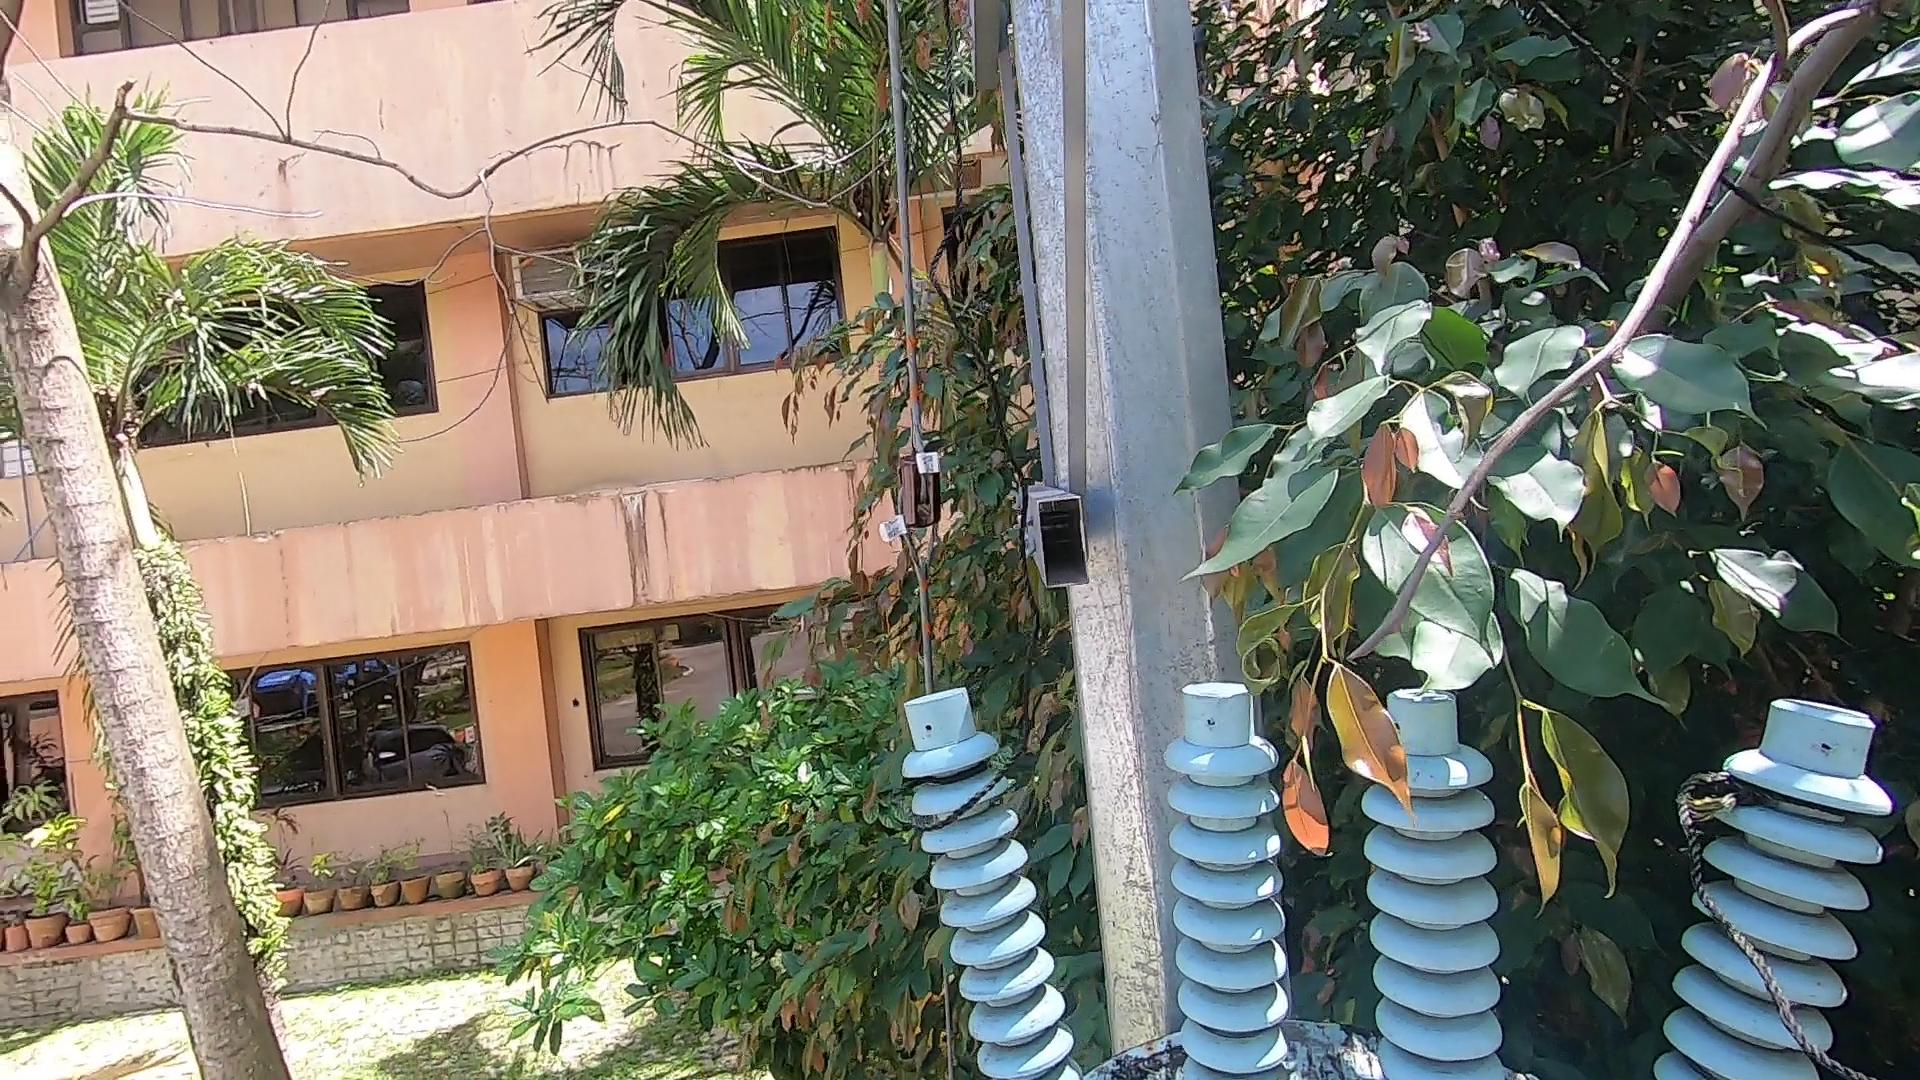tree branch: (1354, 1, 1890, 684)
